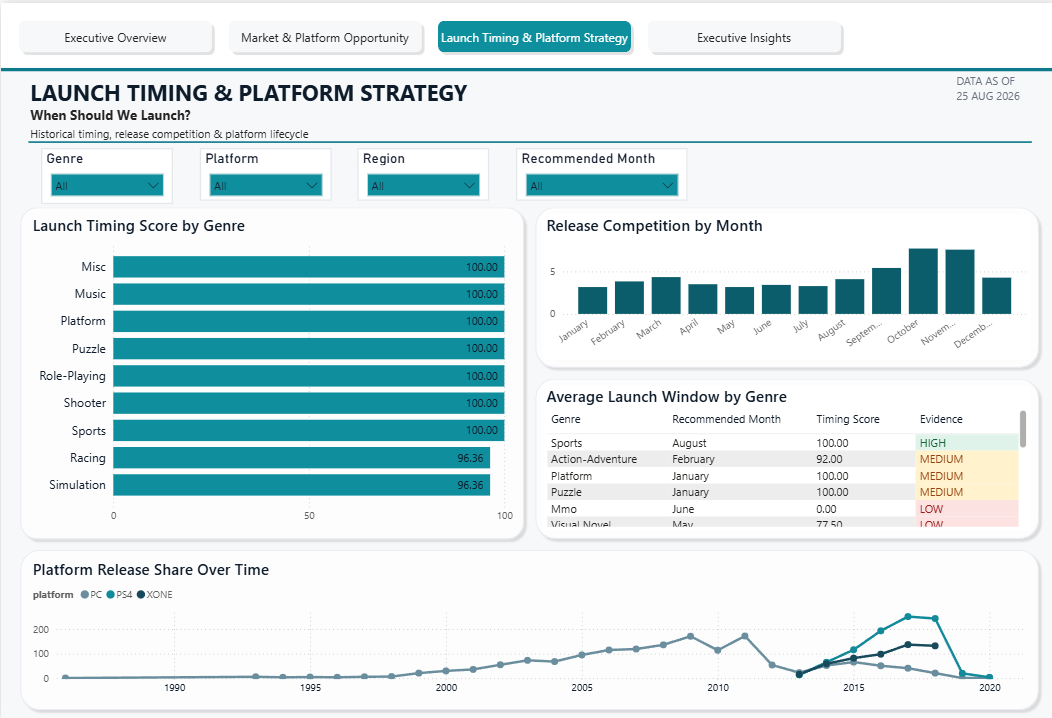

Layout of this report page (visuals, bound fields, positions):
{"tool":"powerbi","page":{"name":"Launch Timing & Platform Strategy","canvas":[1280,870],"ordinal":2},"visuals":[{"type":"shape","box":[640,240,624,208],"z":0},{"type":"shape","box":[0,0,1280,80],"z":500,"group":"g1"},{"type":"textbox","box":[30,84,600,45],"z":1000},{"type":"pageNavigator","box":[16,16,1008,48],"z":1001,"group":"g1"},{"type":"group","id":"g1","title":"Group 4","box":[0,0,1280,88],"z":2000},{"type":"textbox","box":[30,119,592,48],"z":3000},{"type":"textbox","box":[1152,80,96,48],"z":3500},{"type":"shape","box":[16,240,624,416],"z":4000},{"type":"shape","box":[16,656,1248,208],"z":4000,"group":"g3"},{"type":"textbox","box":[30,144,592,48],"z":6000},{"type":"shape","box":[0,72,1280,16],"z":7000,"group":"g1"},{"type":"shape","box":[32,160,1216,16],"z":7000},{"type":"slicer","title":"Genre","fields":{"Values":["DimGenre.Genre"]},"box":[48,176,160,68],"z":8000,"group":"g2"},{"type":"shape","box":[640,448,624,208],"z":8000},{"type":"slicer","title":"Recommended Month","fields":{"Values":["DimMonth.Month Name"]},"box":[624,176,208,64],"z":9000,"group":"g2"},{"type":"barChart","title":"Launch Timing Score by Genre","fields":{"Category":["phase4_launch_timing_scenarios.genre"],"Y":["Avg(phase4_launch_timing_scenarios.historical_timing_score)"]},"box":[32,256,592,384],"z":9000},{"type":"lineChart","title":"Platform Release Share Over Time","fields":{"Category":["phase4_platform_lifecycle.release_year"],"Y":["Sum(phase4_platform_lifecycle.releases)"],"Series":["phase4_platform_lifecycle.platform"]},"box":[32,672,1216,176],"z":9000,"group":"g3"},{"type":"columnChart","title":"Release Competition by Month","fields":{"Category":["phase4_release_competition_density.release_date.Variation.Date Hierarchy.Month"],"Y":["Avg(phase4_release_competition_density.comparable_releases_30d)"]},"box":[656,256,592,176],"z":10000},{"type":"group","id":"g2","title":"Group 1","box":[48,176,784,64],"z":11000},{"type":"slicer","title":"Platform","fields":{"Values":["DimPlatform.Platform"]},"box":[240,176,160,64],"z":11000,"group":"g2"},{"type":"slicer","title":"Region","fields":{"Values":["DimRegion.Region"]},"box":[432,176,160,64],"z":12000,"group":"g2"},{"type":"tableEx","title":"Average Launch Window by Genre","fields":{"Values":["phase4_launch_timing_scenarios.genre","phase4_launch_timing_scenarios.Recommended Month","_Measures.Average Timing Score","phase4_launch_timing_scenarios.evidence_quality"]},"box":[656,464,592,176],"z":12000},{"type":"group","id":"g3","title":"Group 3","box":[16,656,1248,208],"z":13000}]}

Visuals, with their boxes in screenshot pixels (x1, y1, x2, y2), scaled from the page's 1280x870 canvas onto the 1052x718 screenshot:
shape: (x1=526, y1=198, x2=1039, y2=370)
shape: (x1=0, y1=0, x2=1051, y2=66)
textbox: (x1=25, y1=69, x2=518, y2=106)
pageNavigator: (x1=13, y1=13, x2=842, y2=53)
"Group 4" group: (x1=0, y1=0, x2=1051, y2=73)
textbox: (x1=25, y1=98, x2=511, y2=138)
textbox: (x1=947, y1=66, x2=1026, y2=106)
shape: (x1=13, y1=198, x2=526, y2=541)
shape: (x1=13, y1=541, x2=1039, y2=713)
textbox: (x1=25, y1=119, x2=511, y2=158)
shape: (x1=0, y1=59, x2=1051, y2=73)
shape: (x1=26, y1=132, x2=1026, y2=145)
"Genre" slicer: (x1=39, y1=145, x2=171, y2=201)
shape: (x1=526, y1=370, x2=1039, y2=541)
"Recommended Month" slicer: (x1=513, y1=145, x2=684, y2=198)
"Launch Timing Score by Genre" barChart: (x1=26, y1=211, x2=513, y2=528)
"Platform Release Share Over Time" lineChart: (x1=26, y1=555, x2=1026, y2=700)
"Release Competition by Month" columnChart: (x1=539, y1=211, x2=1026, y2=357)
"Group 1" group: (x1=39, y1=145, x2=684, y2=198)
"Platform" slicer: (x1=197, y1=145, x2=329, y2=198)
"Region" slicer: (x1=355, y1=145, x2=487, y2=198)
"Average Launch Window by Genre" tableEx: (x1=539, y1=383, x2=1026, y2=528)
"Group 3" group: (x1=13, y1=541, x2=1039, y2=713)
